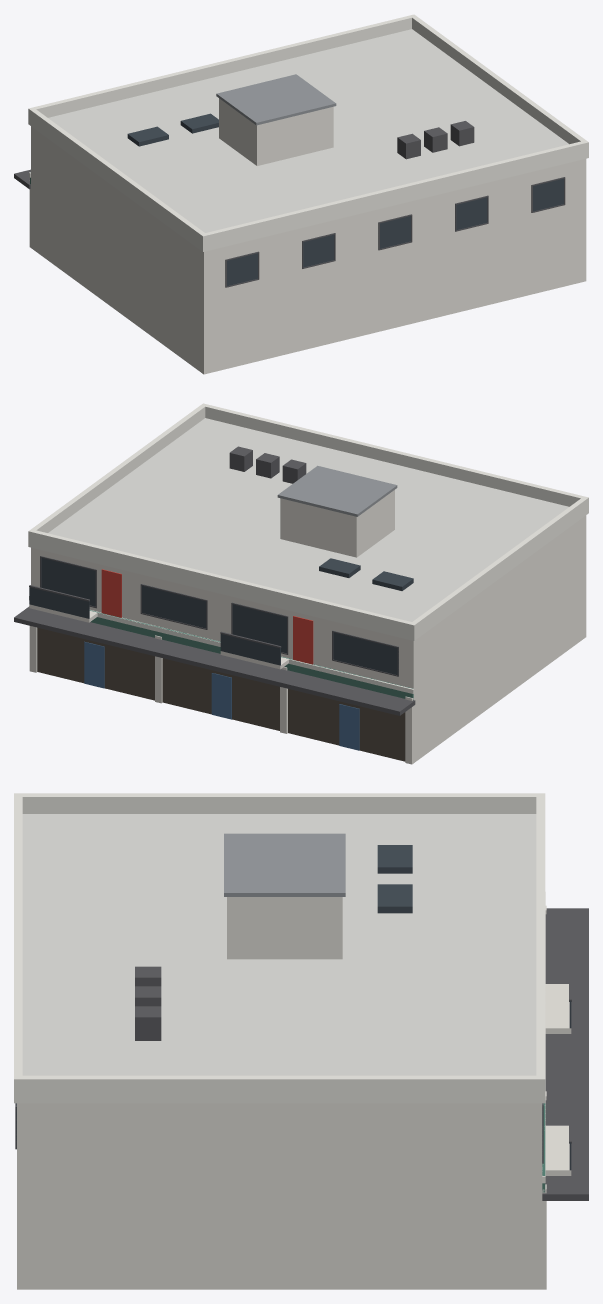
Rendered from ca_mainstreet2_b.glb.
3 views of the same model, one above another, from view 1: azimuth 30°, elevation 25°; view 2: azimuth 150°, elevation 25°; view 3: azimuth 270°, elevation 25° (orthographic). The views are drawn at different scales.
Visible parts, largest first — view 1: ca_mainstreet2_b; view 2: ca_mainstreet2_b; view 3: ca_mainstreet2_b.
Boxes of the visible parts, x1,y1,x2,y2 form: ca_mainstreet2_b: (14, 14, 588, 374); ca_mainstreet2_b: (14, 403, 588, 764); ca_mainstreet2_b: (14, 793, 588, 1289).
Bounding box in the file's own units: 23.2 × 9.9 × 19.7.
